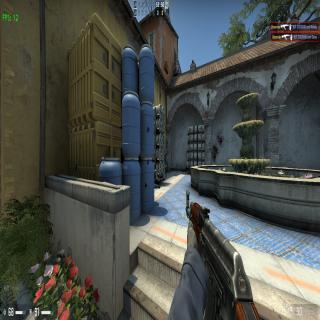CT-Body: (164, 150, 167, 178)
